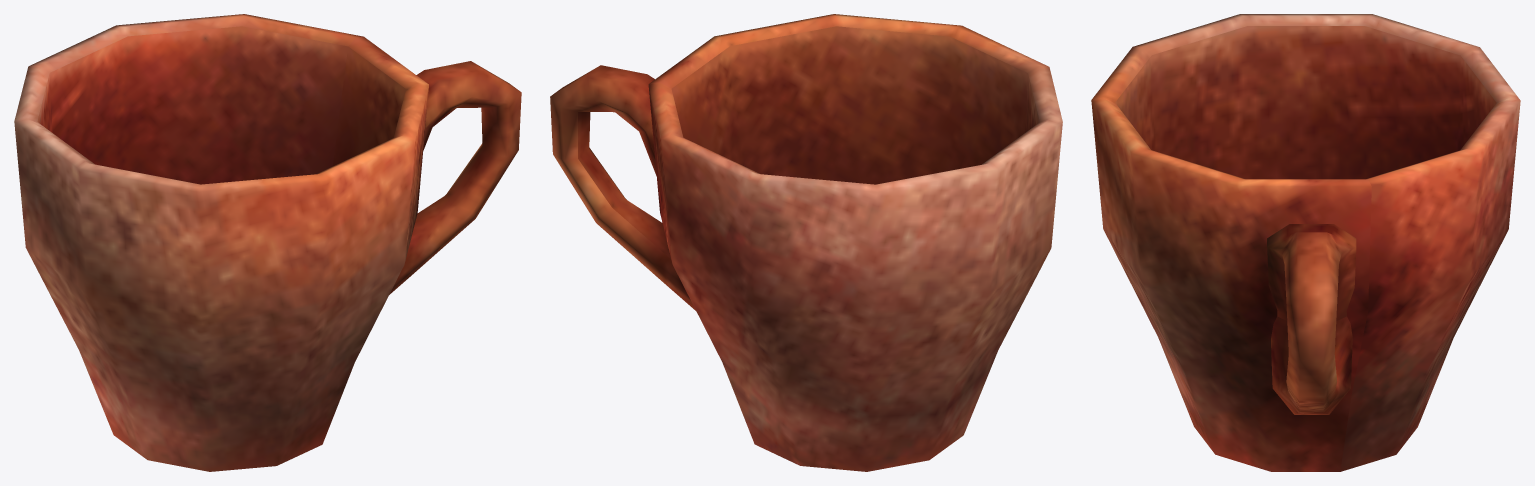
The model's file is item.FBX.
3 renders of one model, left to right at view 1: azimuth 30°, elevation 25°; view 2: azimuth 150°, elevation 25°; view 3: azimuth 270°, elevation 25°, orthographic.
Visible parts, largest first — view 1: SM_Def_Item; view 2: SM_Def_Item; view 3: SM_Def_Item.
Part boxes in pixels (box(x1,y1,x2,y2)): SM_Def_Item: box(14, 14, 521, 471); SM_Def_Item: box(550, 14, 1062, 471); SM_Def_Item: box(1091, 14, 1520, 471).
Bounding box in the file's own units: 10.86 × 7.16 × 8.46.
1 material, 1 textured.
